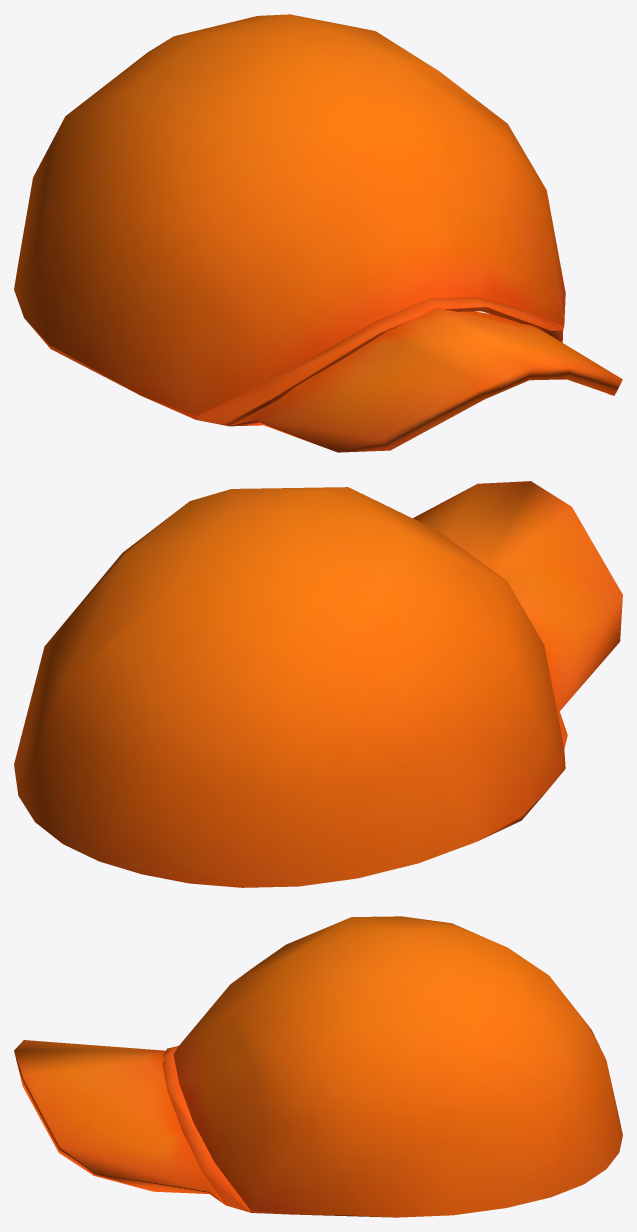
File: Cashier_Hat.glb
3 renders of one model, top to bottom at view 1: azimuth 30°, elevation 25°; view 2: azimuth 150°, elevation 25°; view 3: azimuth 270°, elevation 25°, orthographic. The views are drawn at different scales.
Parts seen in each view (by area): view 1: Cashier_Hat; view 2: Cashier_Hat; view 3: Cashier_Hat.
Boxes of the visible parts, box(x1,y1,x2,y2) form: Cashier_Hat: box(14, 14, 622, 452); Cashier_Hat: box(14, 481, 622, 887); Cashier_Hat: box(14, 916, 622, 1217).
Size of the model in its own units: 0.5106 by 0.2777 by 0.7279.
Materials: 1 (1 with a texture image).
